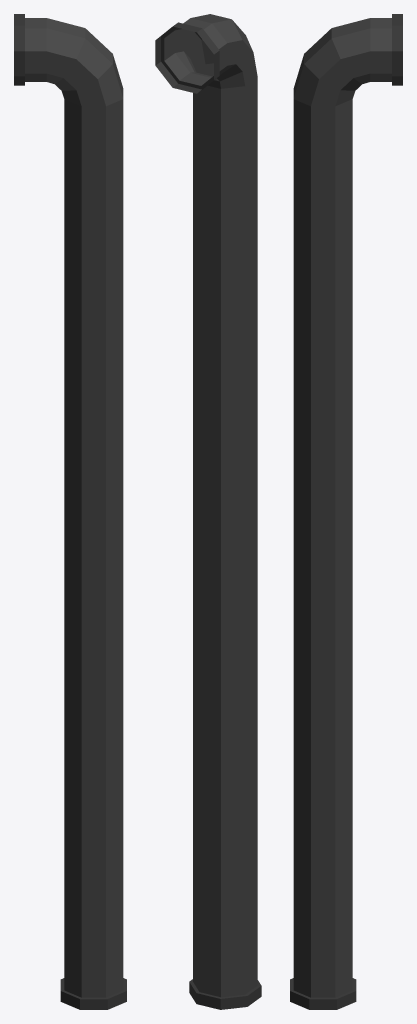
File: SM_BuildingsDecor_05.fbx
3 views of the same model, side by side, from view 1: azimuth 90°, elevation 25°; view 2: azimuth 150°, elevation 25°; view 3: azimuth 270°, elevation 25° (orthographic).
Visible parts, largest first — view 1: SM_BuildingsDecor_05; view 2: SM_BuildingsDecor_05; view 3: SM_BuildingsDecor_05.
Part boxes in pixels (x1,y1,x2,y2): SM_BuildingsDecor_05: (14, 14, 126, 1009); SM_BuildingsDecor_05: (155, 14, 261, 1009); SM_BuildingsDecor_05: (290, 14, 402, 1009).
Size of the model in its own units: 0.2436 by 3.95 by 0.4137.
